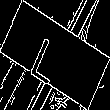L_NE: (34, 25, 76, 85)
